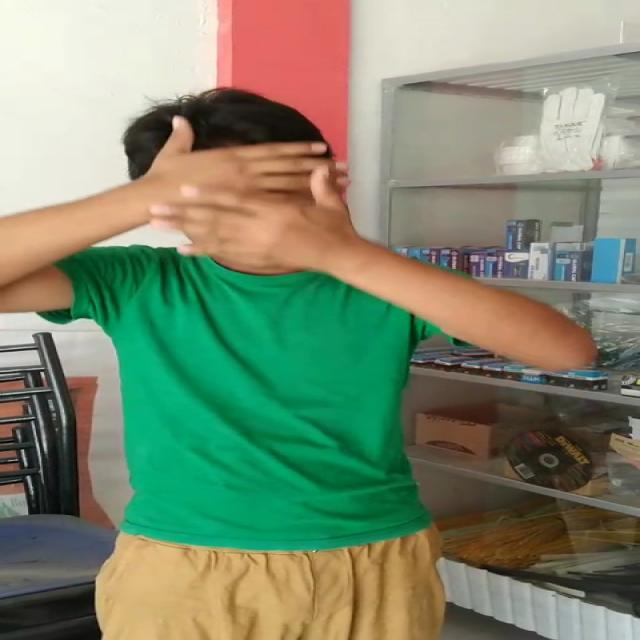7_mano_rostro: (122, 111, 347, 265)
